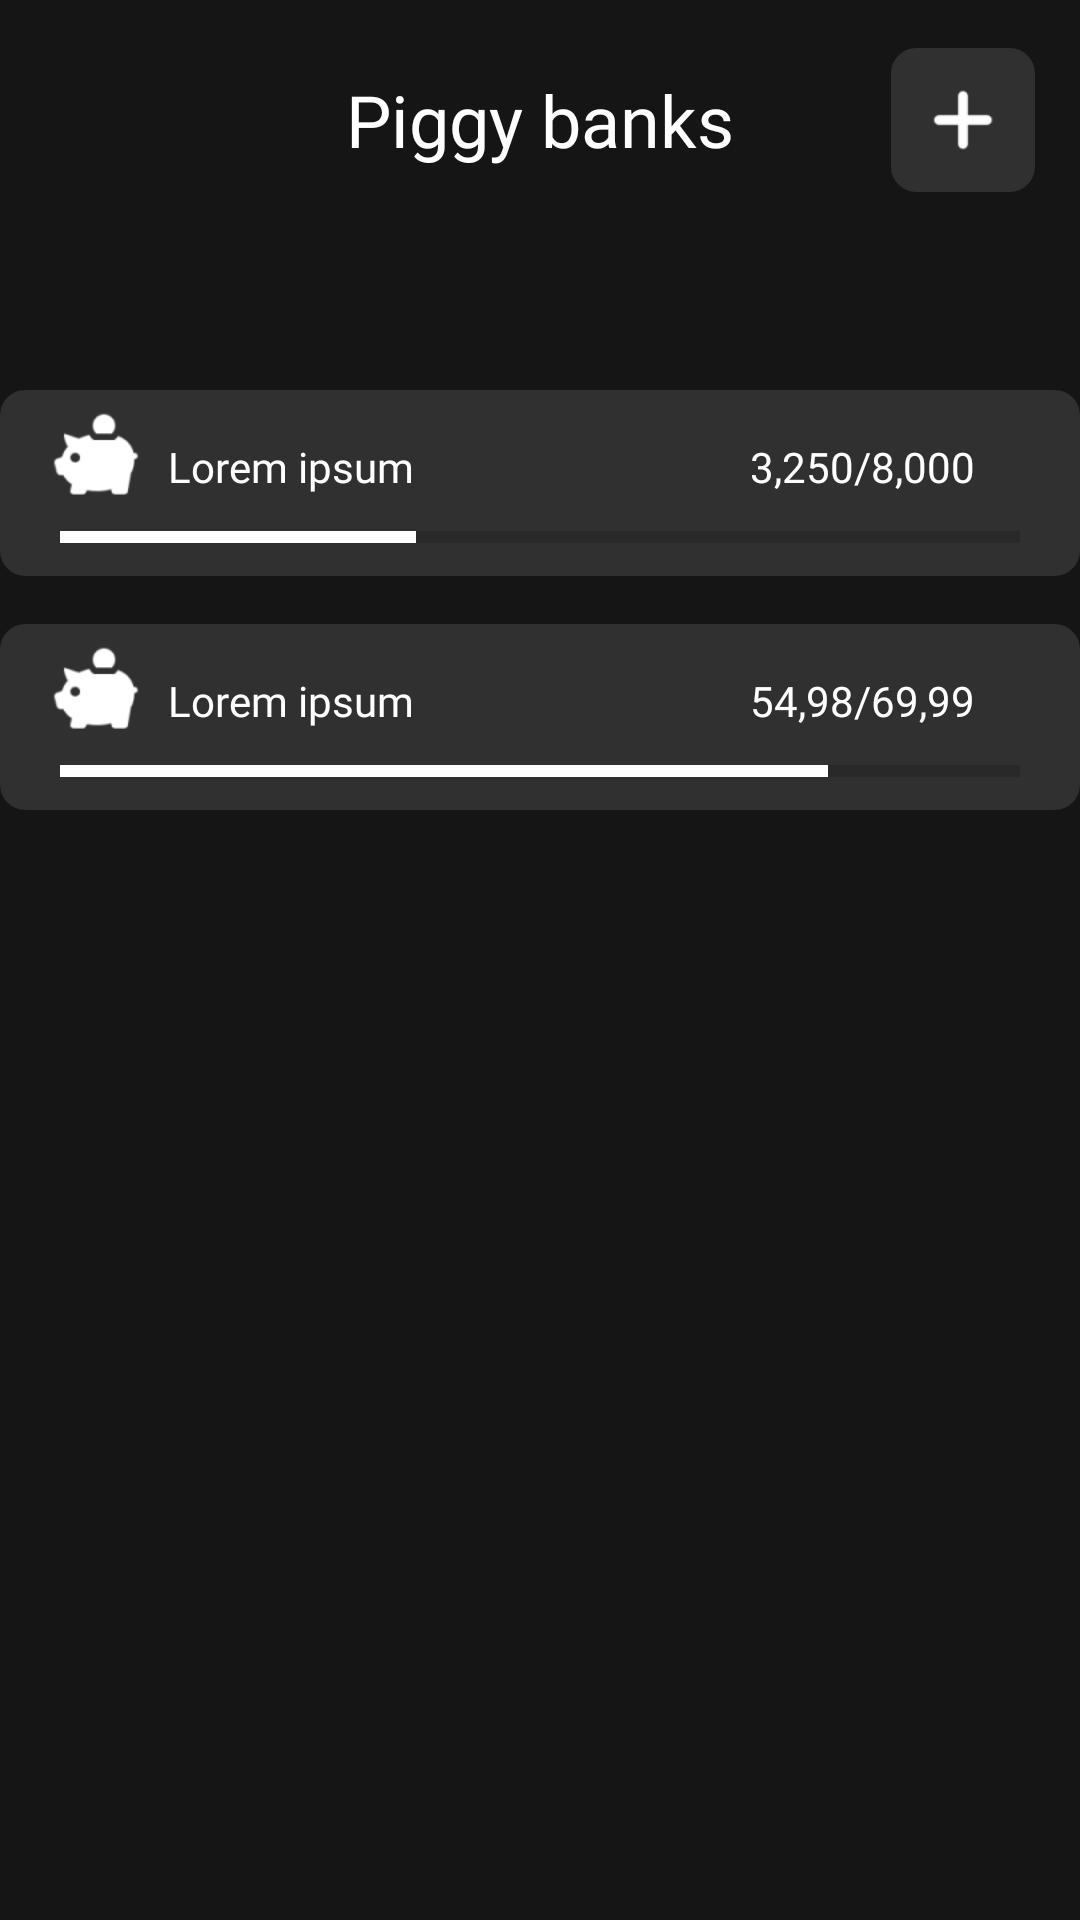

Icon bounding boxes for this 1080px x 1920px phone screenshot, format (x1, y1, x2, y2):
piggy: (53, 413, 139, 495), (53, 647, 139, 729)
plus: (933, 90, 993, 150)
